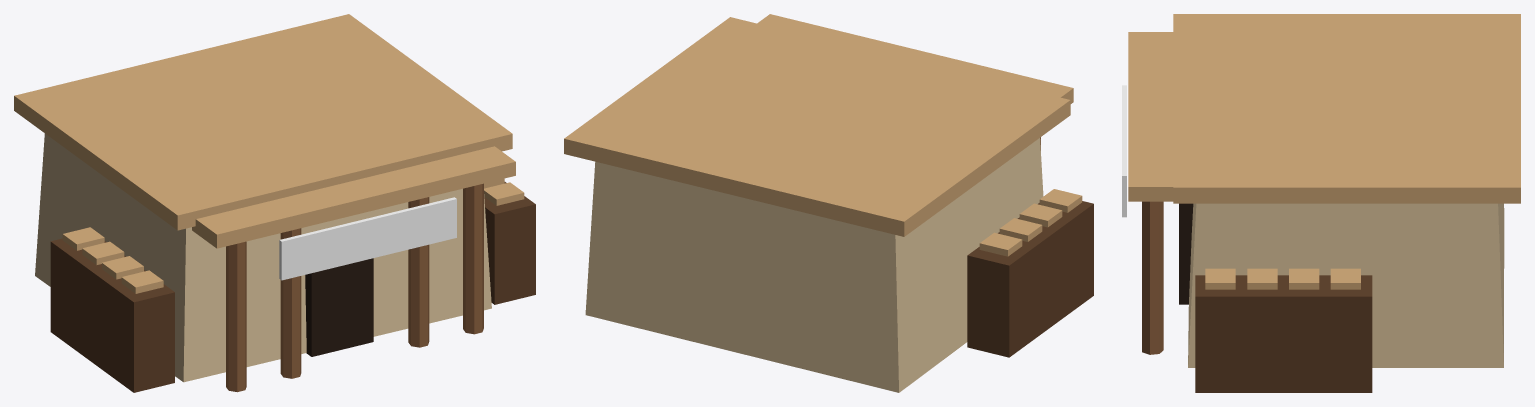
The model's file is school.glb.
3 views of the same model, side by side, from view 1: azimuth 30°, elevation 25°; view 2: azimuth 150°, elevation 25°; view 3: azimuth 270°, elevation 25° (orthographic). The views are drawn at different scales.
Parts seen in each view (by area): view 1: part.001, part, part.009, part.007, part.008, part.002, part.014, part.003, part.006, part.004, part.005, part.010 (+4 smaller); view 2: part, part.001, part.009, part.007, part.013, part.011, part.012, part.010; view 3: part.001, part, part.014, part.007, part.006, part.002, part.015, part.016, part.017, part.018, part.008.
Part boxes in pixels (x1,y1,x2,y2): part.001: (14, 14, 512, 230); part: (35, 133, 491, 382); part.009: (50, 238, 174, 392); part.007: (192, 146, 515, 248); part.008: (279, 197, 456, 280); part.002: (305, 258, 373, 356); part.014: (484, 182, 535, 304); part.003: (226, 241, 246, 392); part.006: (463, 183, 483, 334); part.004: (280, 228, 301, 378); part.005: (408, 197, 429, 347); part.010: (121, 270, 163, 293); part: (585, 138, 1043, 392); part.001: (564, 17, 1070, 236); part.009: (967, 201, 1093, 357); part.007: (757, 14, 1073, 103); part.013: (979, 232, 1022, 256); part.011: (1019, 203, 1062, 227); part.012: (999, 218, 1042, 241); part.010: (1039, 189, 1082, 212); part.001: (1173, 14, 1520, 203); part: (1188, 203, 1504, 367); part.014: (1195, 275, 1372, 392); part.007: (1128, 32, 1173, 201); part.006: (1142, 201, 1163, 354); part.002: (1179, 203, 1193, 304); part.015: (1205, 268, 1235, 289); part.016: (1247, 268, 1277, 289); part.017: (1289, 268, 1319, 289); part.018: (1330, 268, 1360, 289); part.008: (1122, 85, 1126, 217).
Bounding box in the file's own units: 3.9 × 1.65 × 3.15.
